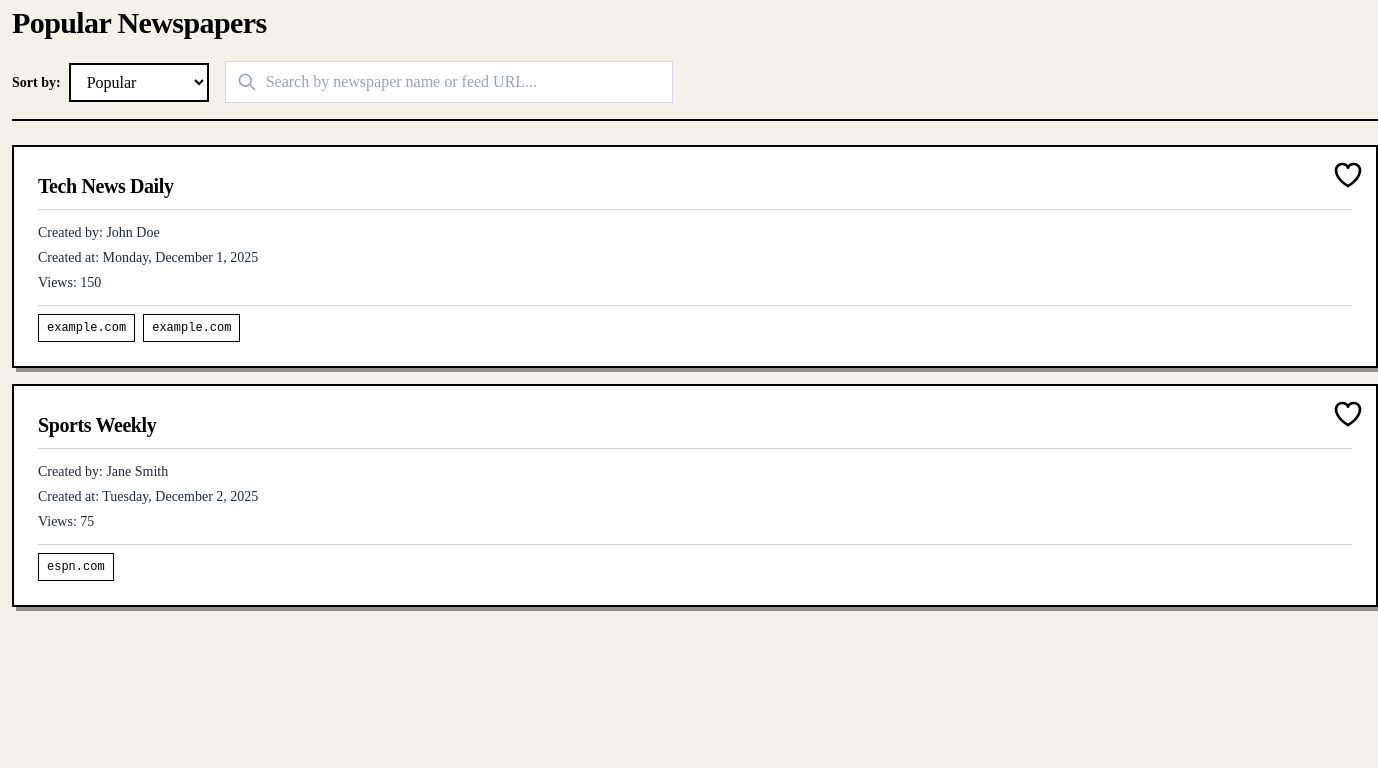
Test case: PopularNewspapers › Search Filter › filters newspapers by search query in name
The width and height of the screenshot is (1378, 768).
Check: the heading "Tech News Daily" is shown, box [38, 171, 1352, 210]
Note: Search for "tech"
Type "tech" into the field with placeholder "Search by newspaper name or feed URL...".
click(449, 82); type("tech")  # box [225, 61, 673, 103]
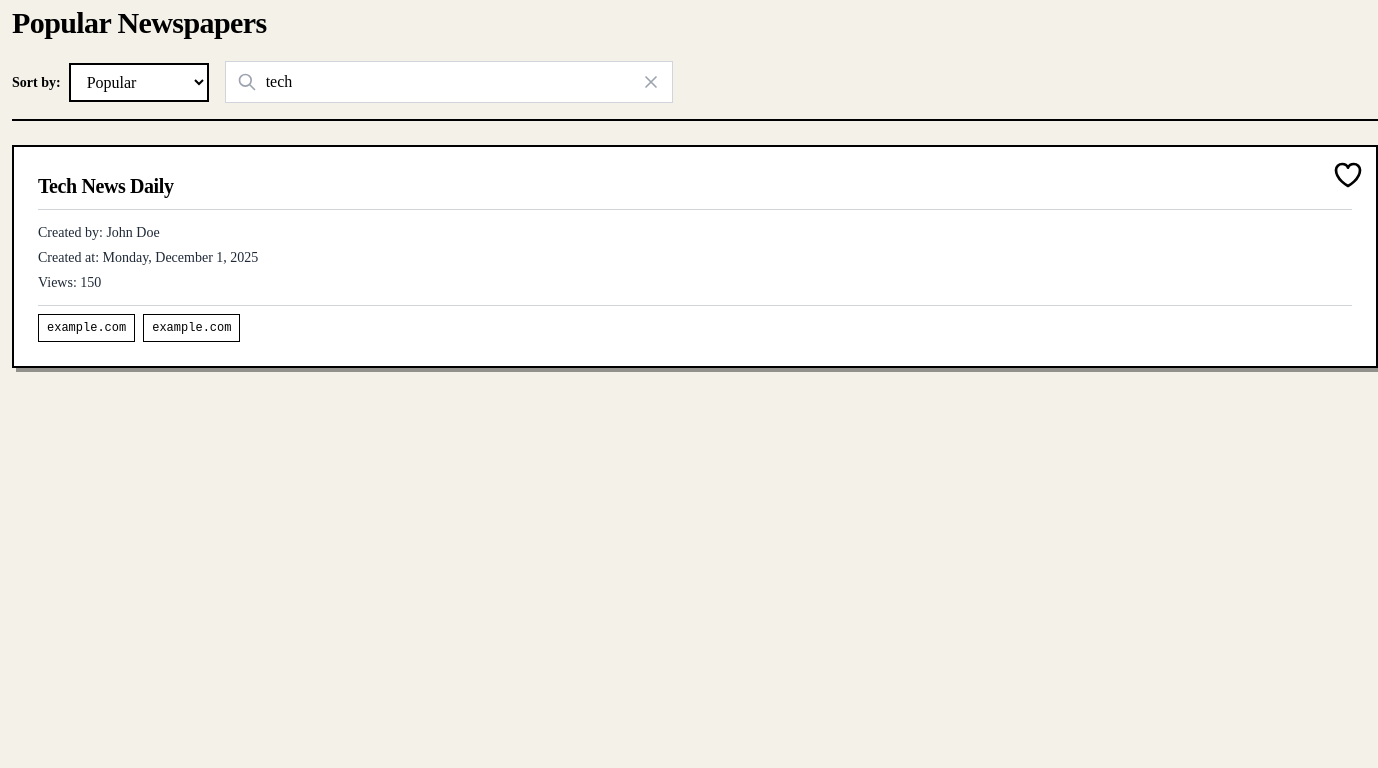
Check: the heading "Tech News Daily" is shown, box [38, 171, 1352, 210]
Check: the heading "Sports Weekly" is gone
